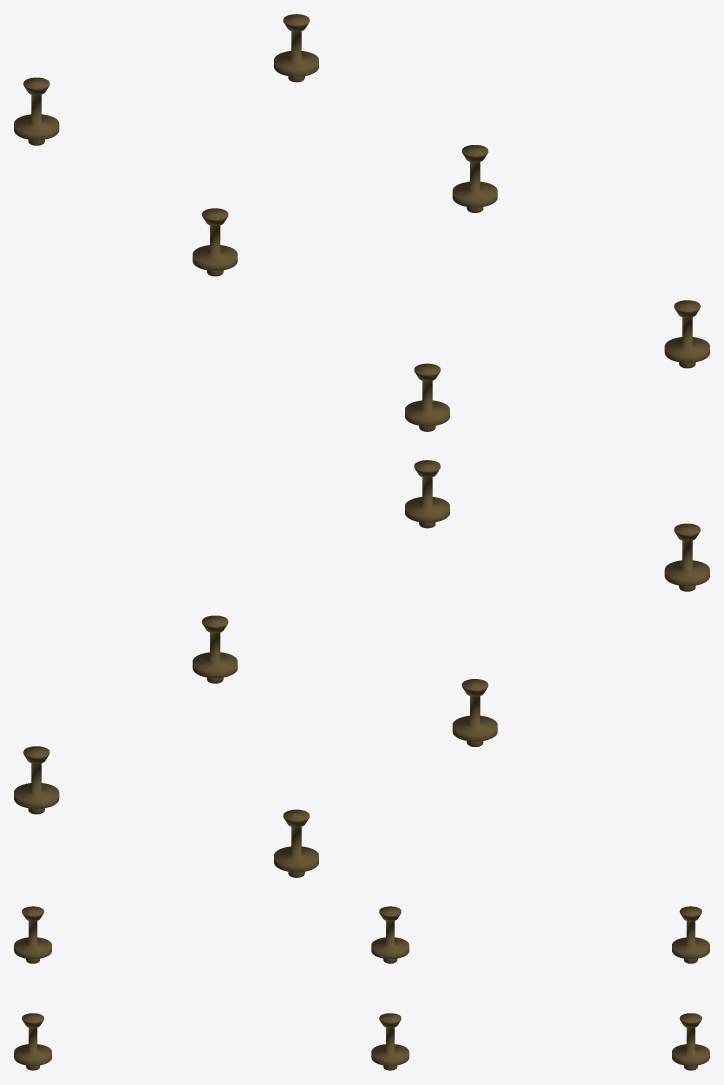
Rendered from FAN.glb.
3 views of the same model, one above another, from view 1: azimuth 30°, elevation 25°; view 2: azimuth 150°, elevation 25°; view 3: azimuth 270°, elevation 25° (orthographic). The views are drawn at different scales.
Parts seen in each view (by area): view 1: Cylinder.001, Cylinder.018, Cylinder.020, Cylinder.003, Cylinder.016, Cylinder.022; view 2: Cylinder.003, Cylinder.016, Cylinder.022, Cylinder.001, Cylinder.020, Cylinder.018; view 3: Cylinder.018, Cylinder.022, Cylinder.016, Cylinder.020, Cylinder.001, Cylinder.003.
Part boxes in pixels (bbox=[...]): Cylinder.001: bbox=[192, 208, 237, 276]; Cylinder.018: bbox=[14, 77, 59, 145]; Cylinder.020: bbox=[664, 300, 709, 368]; Cylinder.003: bbox=[452, 145, 497, 212]; Cylinder.016: bbox=[274, 14, 318, 82]; Cylinder.022: bbox=[405, 363, 449, 431]; Cylinder.003: bbox=[192, 615, 237, 683]; Cylinder.016: bbox=[14, 746, 59, 814]; Cylinder.022: bbox=[664, 523, 709, 591]; Cylinder.001: bbox=[452, 679, 497, 746]; Cylinder.020: bbox=[405, 460, 449, 528]; Cylinder.018: bbox=[274, 809, 318, 877]; Cylinder.018: bbox=[672, 906, 709, 963]; Cylinder.022: bbox=[14, 906, 51, 963]; Cylinder.016: bbox=[672, 1013, 709, 1070]; Cylinder.020: bbox=[14, 1013, 51, 1070]; Cylinder.001: bbox=[371, 906, 409, 963]; Cylinder.003: bbox=[371, 1013, 409, 1070].
Size of the model in its own units: 198 by 37.7 by 473.
